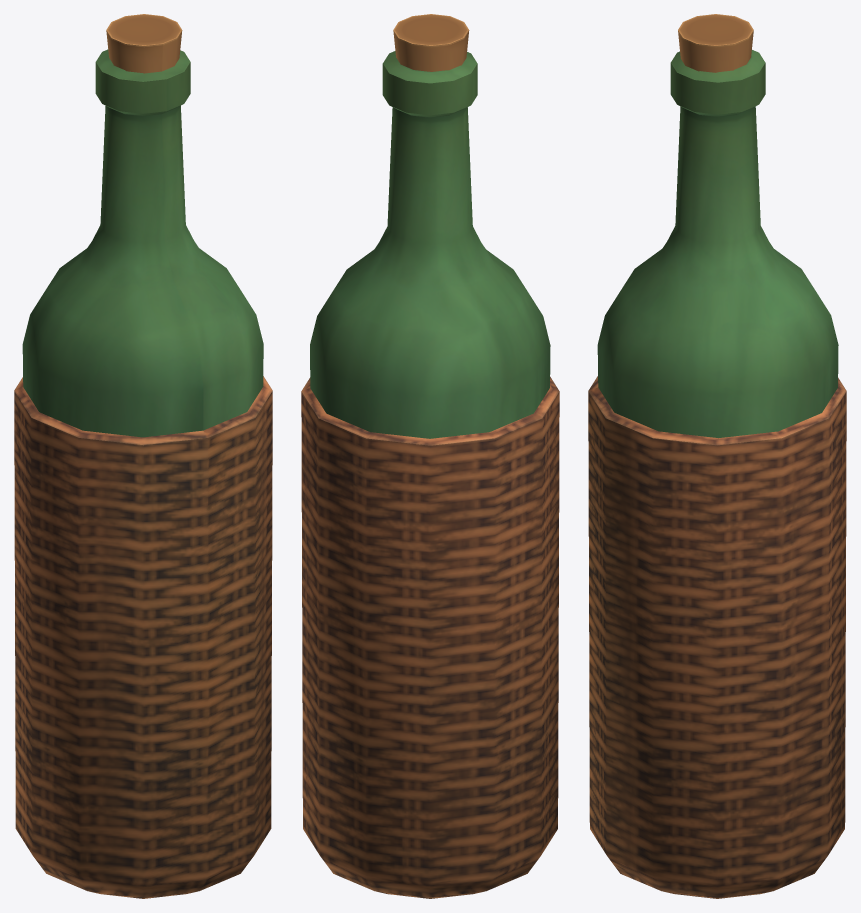
The model's file is SM_Drink_Bottle_A2_Red.fbx.
3 renders of one model, left to right at view 1: azimuth 30°, elevation 25°; view 2: azimuth 150°, elevation 25°; view 3: azimuth 270°, elevation 25°, orthographic.
Visible parts, largest first — view 1: SM_Drink_Bottle_A2_Red_LOD0; view 2: SM_Drink_Bottle_A2_Red_LOD0; view 3: SM_Drink_Bottle_A2_Red_LOD0.
Boxes of the visible parts, x1=… form: SM_Drink_Bottle_A2_Red_LOD0: x1=14, y1=14, x2=272, y2=898; SM_Drink_Bottle_A2_Red_LOD0: x1=301, y1=14, x2=559, y2=898; SM_Drink_Bottle_A2_Red_LOD0: x1=588, y1=14, x2=846, y2=898.
Bounding box in the file's own units: 8.57 × 8.57 × 30.47.
